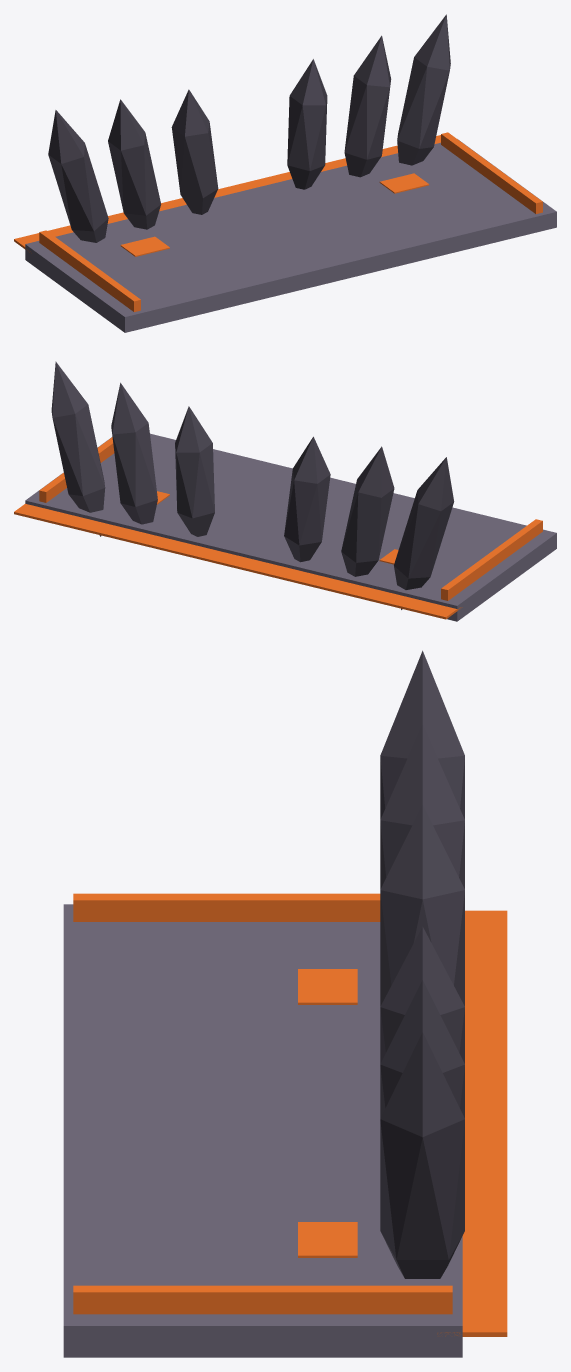
File: arena_tartarus_pits.glb
The picture shows the model from 3 angles, top to bottom: view 1: azimuth 30°, elevation 25°; view 2: azimuth 150°, elevation 25°; view 3: azimuth 270°, elevation 25°; orthographic projection. The views are drawn at different scales.
Visible parts, largest first — view 1: FLOOR, BASALT.005, BASALT, BASALT.004, BASALT.001, BASALT.003, BASALT.002, BOUNDARY, BOUNDARY.001, LAVA_RIVER, VENT.001, VENT; view 2: FLOOR, LAVA_RIVER, BASALT.005, BASALT, BASALT.004, BASALT.001, BASALT.003, BASALT.002, BOUNDARY, BOUNDARY.001; view 3: FLOOR, LAVA_RIVER, BASALT.005, BOUNDARY.001, BASALT.002, BOUNDARY, BASALT.001, BASALT, BASALT.003, BASALT.004, VENT, VENT.001.
Part boxes in pixels (<box>): FLOOR: <box>25,139,556,332</box>; BASALT.005: <box>397,14,450,165</box>; BASALT: <box>48,110,108,242</box>; BASALT.004: <box>344,35,391,177</box>; BASALT.001: <box>108,99,161,229</box>; BASALT.003: <box>287,59,327,189</box>; BASALT.002: <box>171,89,218,214</box>; BOUNDARY: <box>39,230,140,312</box>; BOUNDARY.001: <box>441,132,542,213</box>; LAVA_RIVER: <box>14,135,440,253</box>; VENT.001: <box>379,173,429,193</box>; VENT: <box>120,236,169,256</box>; FLOOR: <box>25,433,556,621</box>; LAVA_RIVER: <box>14,503,462,619</box>; BASALT.005: <box>51,361,105,536</box>; BASALT: <box>394,457,454,609</box>; BASALT.004: <box>111,382,157,524</box>; BASALT.001: <box>341,446,394,576</box>; BASALT.003: <box>175,406,214,536</box>; BASALT.002: <box>284,436,330,562</box>; BOUNDARY: <box>441,519,542,600</box>; BOUNDARY.001: <box>39,437,114,502</box>; FLOOR: <box>63,904,462,1357</box>; LAVA_RIVER: <box>437,910,507,1336</box>; BASALT.005: <box>380,1032,464,1278</box>; BOUNDARY.001: <box>73,1285,452,1314</box>; BASALT.002: <box>380,805,464,1006</box>; BOUNDARY: <box>73,893,380,921</box>; BASALT.001: <box>380,724,464,889</box>; BASALT: <box>380,650,464,819</box>; BASALT.003: <box>380,926,464,1063</box>; BASALT.004: <box>380,980,464,1118</box>; VENT: <box>298,969,357,1004</box>; VENT.001: <box>298,1222,357,1257</box>.
Bounding box in the file's own units: 10 × 3.65 × 4.45.
